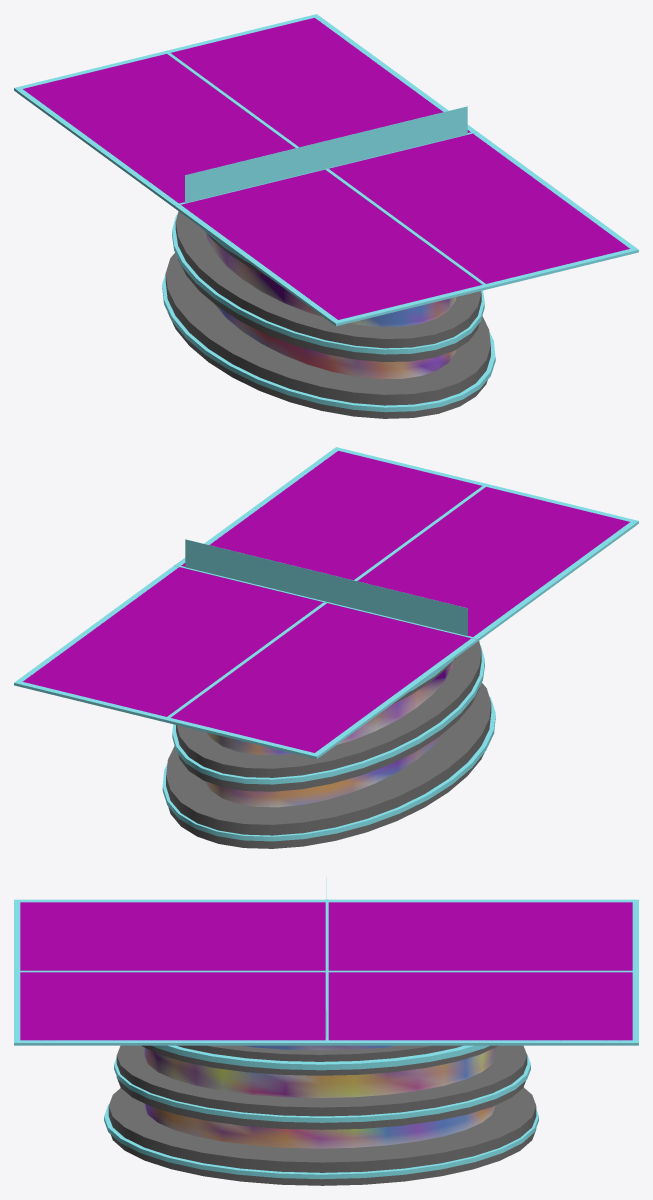
File: ping_pong_table.gltf
The picture shows the model from 3 angles, top to bottom: view 1: azimuth 30°, elevation 25°; view 2: azimuth 150°, elevation 25°; view 3: azimuth 270°, elevation 25°; orthographic projection. The views are drawn at different scales.
Parts seen in each view (by area): view 1: Object_33, Object_31, Object_19, Object_21, Object_5, Object_3, Object_25, Object_7, Object_23, Object_11, Object_17, Object_15 (+1 smaller); view 2: Object_33, Object_31, Object_19, Object_21, Object_5, Object_3, Object_25, Object_23, Object_7, Object_13, Object_17, Object_15 (+2 smaller); view 3: Object_33, Object_31, Object_19, Object_3, Object_21, Object_29, Object_17, Object_25, Object_23, Object_27, Object_7, Object_15 (+3 smaller).
Boxes of the visible parts, x1,y1,x2,y2 form: Object_33: [23, 54, 481, 319]; Object_31: [171, 18, 629, 283]; Object_19: [165, 253, 490, 418]; Object_21: [175, 211, 481, 361]; Object_5: [185, 106, 467, 203]; Object_3: [206, 233, 456, 379]; Object_25: [162, 274, 495, 412]; Object_7: [17, 89, 337, 323]; Object_23: [172, 214, 484, 354]; Object_11: [333, 247, 638, 326]; Object_17: [315, 16, 635, 248]; Object_15: [167, 53, 485, 284]; Object_33: [171, 487, 629, 752]; Object_31: [22, 451, 481, 716]; Object_19: [166, 683, 491, 848]; Object_21: [176, 641, 481, 791]; Object_5: [185, 539, 467, 635]; Object_3: [204, 660, 453, 807]; Object_25: [162, 696, 495, 841]; Object_23: [172, 645, 484, 784]; Object_7: [315, 522, 635, 756]; Object_13: [14, 680, 319, 759]; Object_17: [17, 449, 337, 681]; Object_15: [167, 486, 485, 717]; Object_33: [20, 902, 632, 970]; Object_31: [20, 972, 632, 1040]; Object_19: [108, 1087, 536, 1185]; Object_3: [144, 1045, 495, 1148]; Object_21: [116, 1045, 527, 1129]; Object_29: [142, 1045, 497, 1075]; Object_17: [20, 1040, 632, 1045]; Object_25: [104, 1104, 538, 1179]; Object_23: [114, 1054, 530, 1122]; Object_27: [152, 1045, 489, 1070]; Object_7: [20, 899, 632, 902]; Object_15: [20, 970, 632, 972].
Size of the model in its own units: 1.72 by 1.03 by 3.16.
